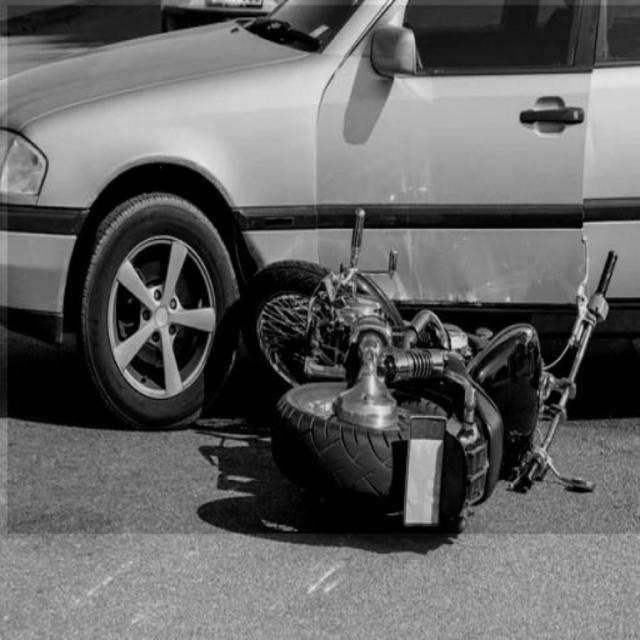accident: (8, 5, 640, 533)
